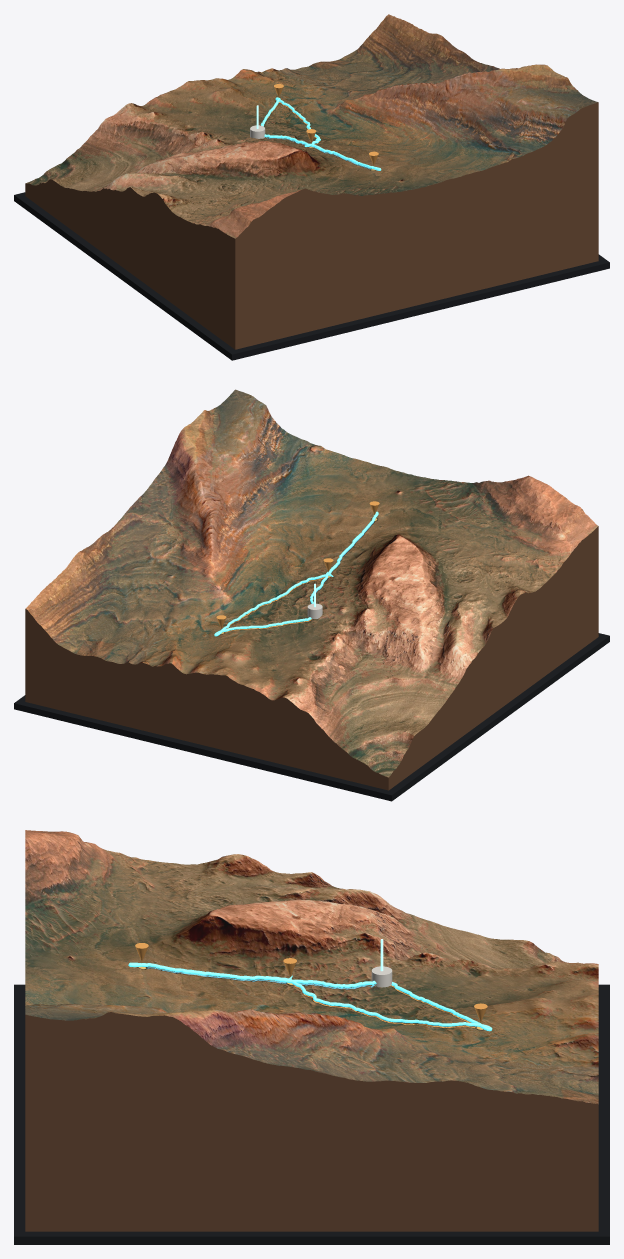
File: tether_demo.glb
3 views of the same model, one above another, from view 1: azimuth 30°, elevation 25°; view 2: azimuth 150°, elevation 25°; view 3: azimuth 270°, elevation 25° (orthographic). The views are drawn at different scales.
Parts seen in each view (by area): view 1: terrain sides, Mount Sharp terrain, base, planned route; view 2: Mount Sharp terrain, terrain sides, base, planned route; view 3: terrain sides, Mount Sharp terrain, base, planned route.
Boxes of the visible parts, x1,y1,x2,y2 form: terrain sides: (25, 102, 598, 349); Mount Sharp terrain: (26, 14, 597, 238); base: (14, 192, 609, 360); planned route: (261, 97, 381, 170); Mount Sharp terrain: (25, 389, 597, 777); terrain sides: (25, 526, 598, 790); base: (14, 633, 609, 801); planned route: (214, 511, 378, 636); terrain sides: (25, 1012, 598, 1231); Mount Sharp terrain: (25, 830, 598, 1104); base: (14, 984, 609, 1244); planned route: (128, 962, 492, 1031).
Bounding box in the file's own units: 0.52 × 0.2196 × 0.52.
9 materials, 1 textured.
